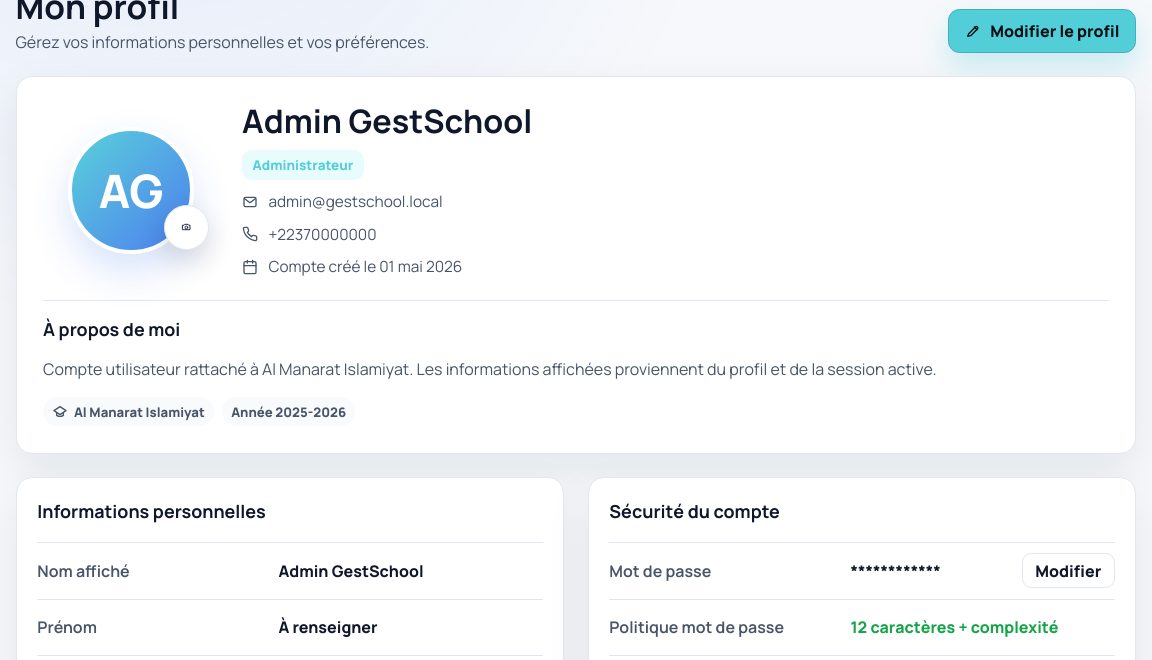
ProfileScreen › ouvre l’édition du profil et expose les champs personnels modifiables
This screenshot has width=1152, height=660.
Step 1. Click the button "Modifier le profil" → x=1042, y=31, box [948,9,1136,53]
(page scrolled)
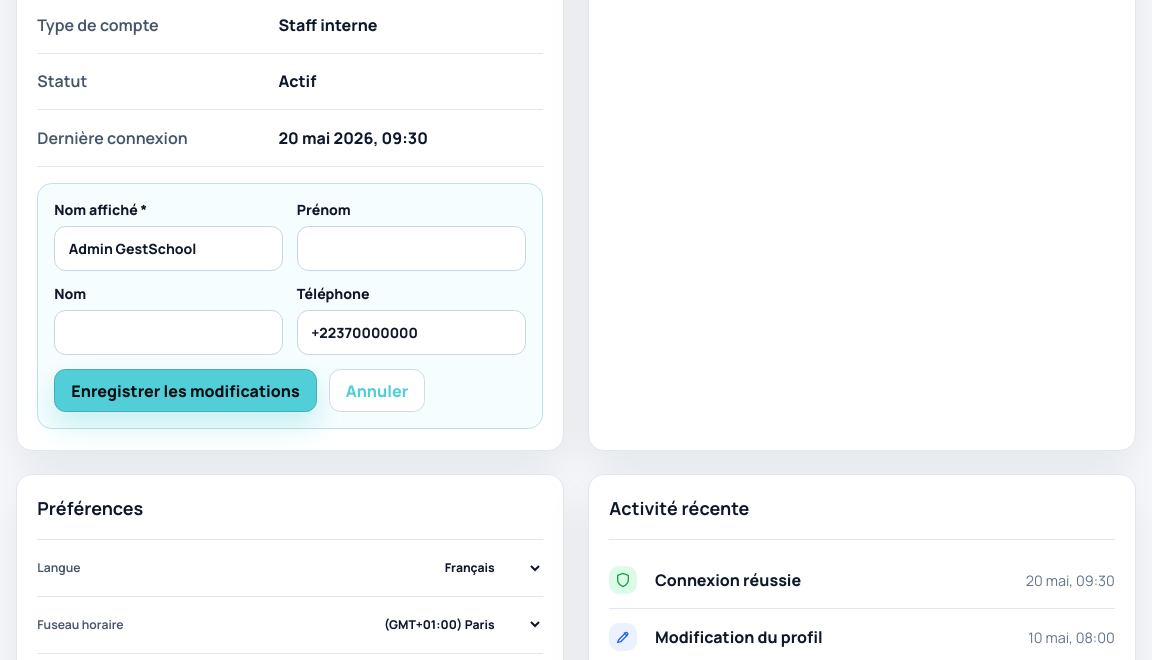
Now the field labelled "Nom affiché *" holds "Admin GestSchool", box [54,226,283,271]
Now the field labelled "Prénom" is shown, box [297,226,526,271]
Now the field labelled "Nom" is shown, box [54,310,283,355]
